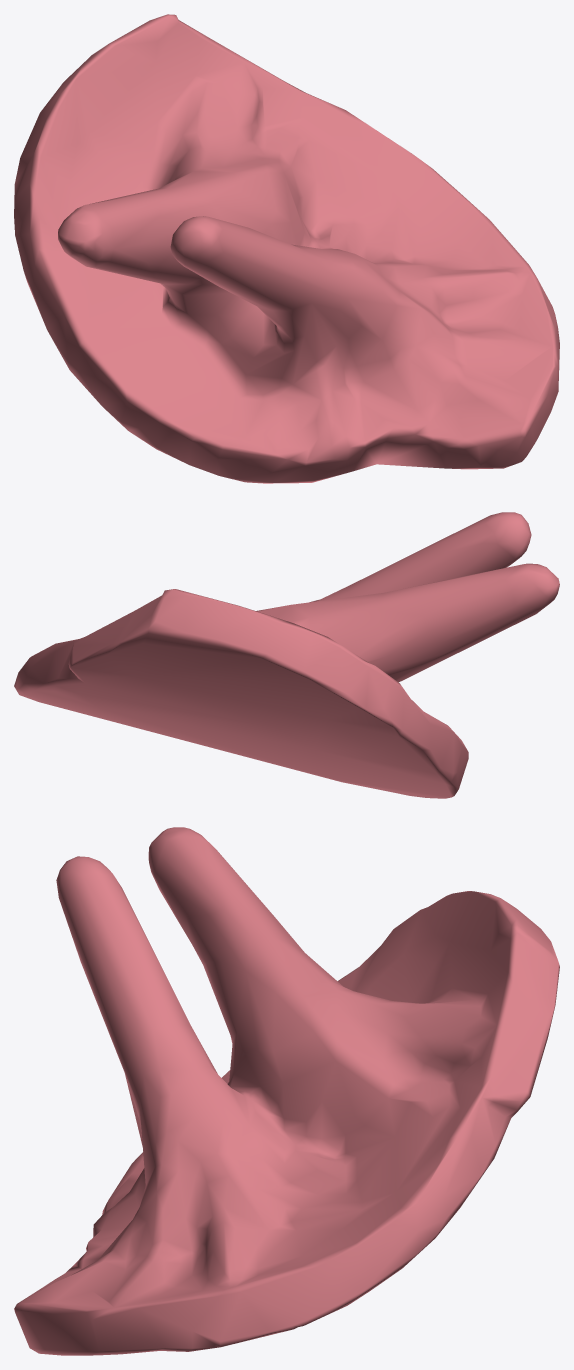
3 views of the same model, one above another, from view 1: azimuth 30°, elevation 25°; view 2: azimuth 150°, elevation 25°; view 3: azimuth 270°, elevation 25° (orthographic). The views are drawn at different scales.
Visible parts, largest first — view 1: 右心室前乳头肌; view 2: 右心室前乳头肌; view 3: 右心室前乳头肌.
Boxes of the visible parts, x1,y1,x2,y2 form: 右心室前乳头肌: (14,14,559,483); 右心室前乳头肌: (14,512,559,798); 右心室前乳头肌: (14,827,559,1355).
Size of the model in its own units: 0.0537 by 0.0328 by 0.0447.
